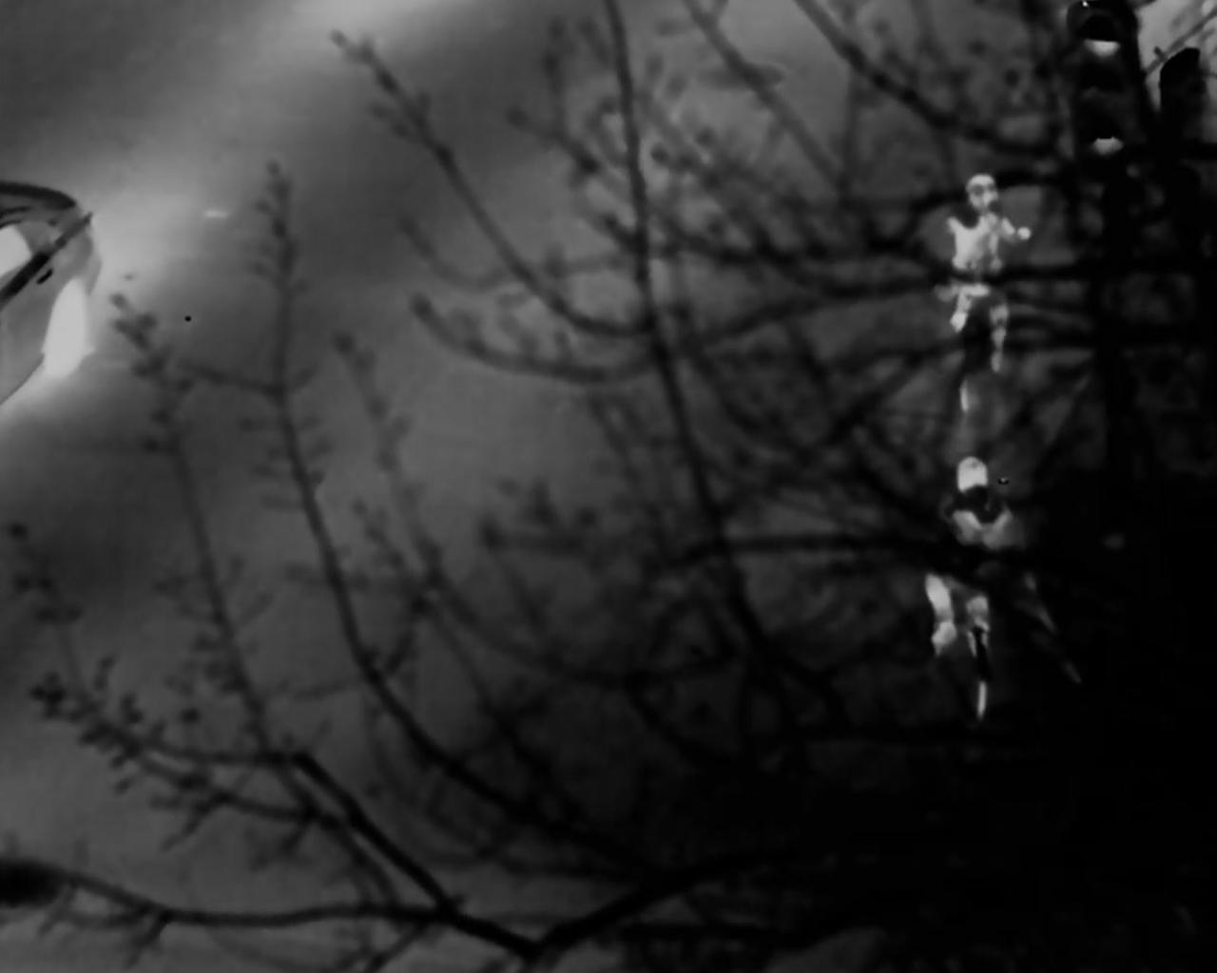person: (943, 171, 1028, 354), (936, 446, 1000, 683)
